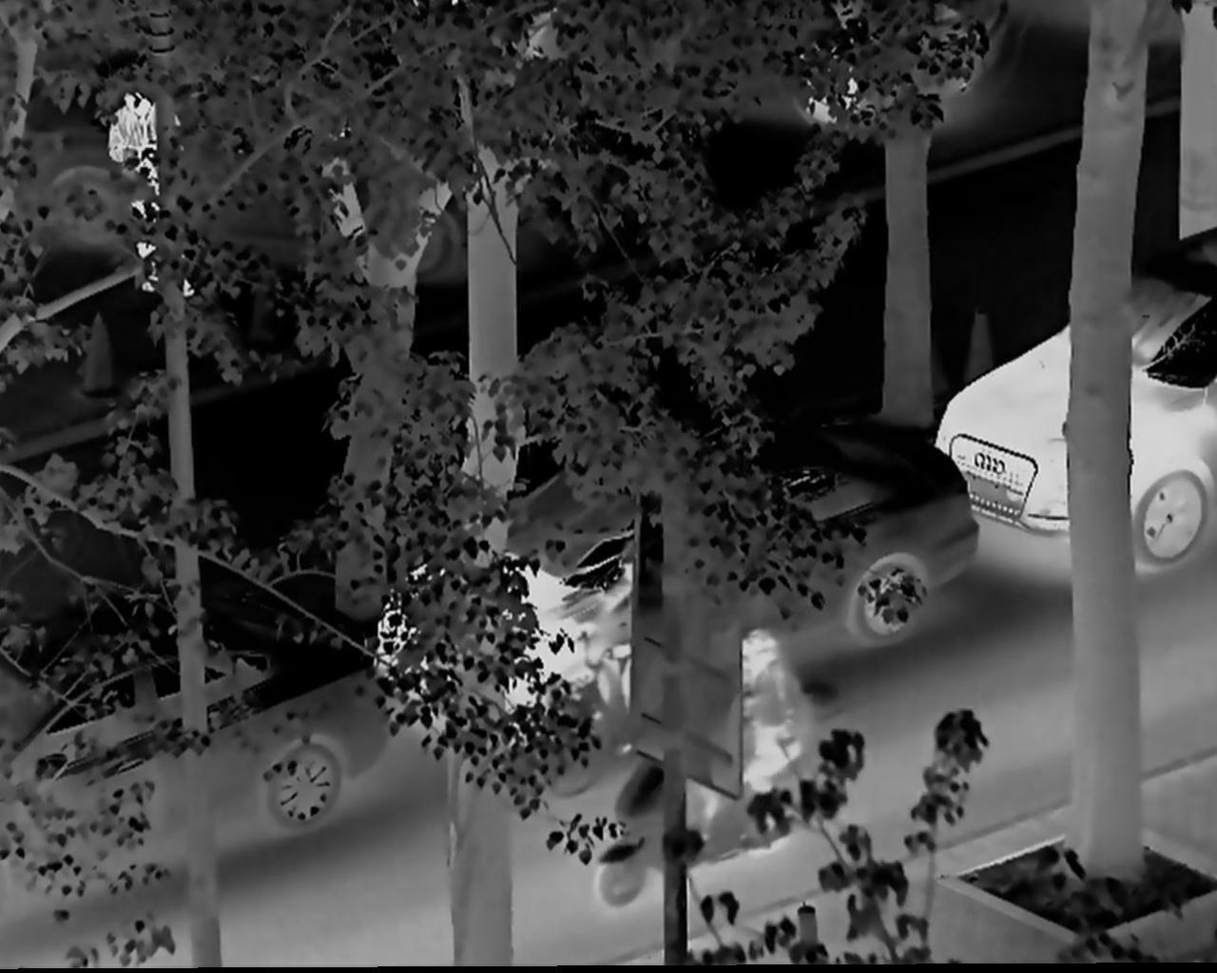person: (111, 86, 205, 302), (724, 622, 818, 816)
